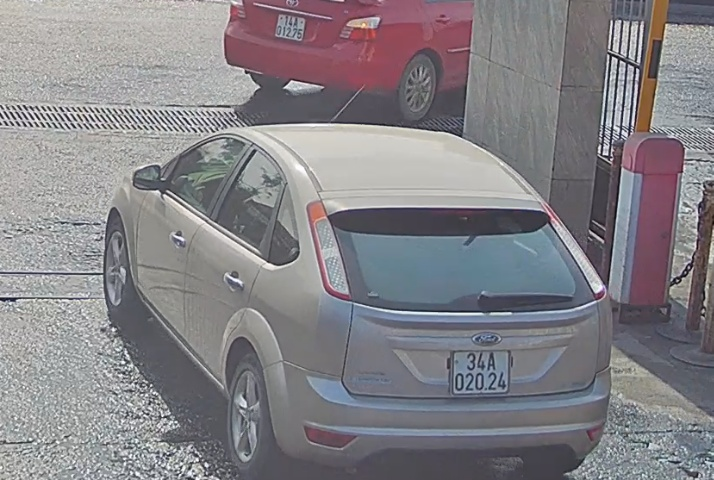vehicle plate: (448, 343, 515, 397)
